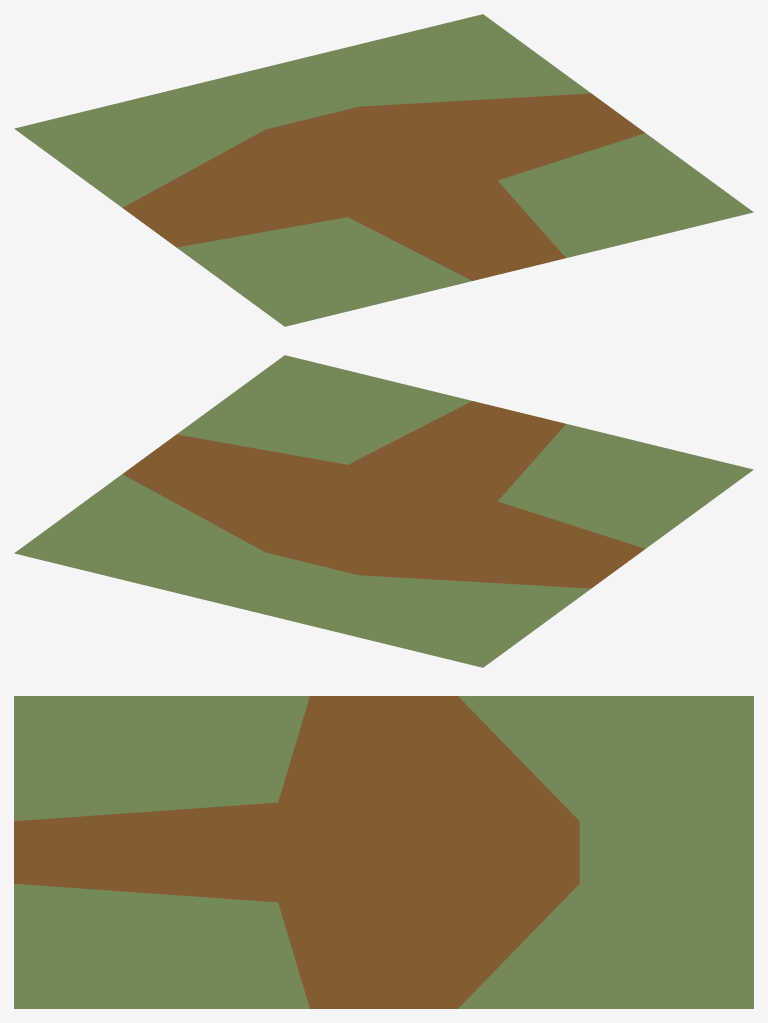
File: SA_Env_Dirt_Corner_03.fbx
3 renders of one model, top to bottom at view 1: azimuth 30°, elevation 25°; view 2: azimuth 150°, elevation 25°; view 3: azimuth 270°, elevation 25°, orthographic. The views are drawn at different scales.
Visible parts, largest first — view 1: SA_Env_Dirt_Corner_03; view 2: SA_Env_Dirt_Corner_03; view 3: SA_Env_Dirt_Corner_03.
Boxes of the visible parts, left/top/right/bottom form: SA_Env_Dirt_Corner_03: left=14, top=14, right=753, bottom=326; SA_Env_Dirt_Corner_03: left=14, top=355, right=753, bottom=667; SA_Env_Dirt_Corner_03: left=14, top=696, right=753, bottom=1008.
Bounding box in the file's own units: 15 × 0 × 15.
